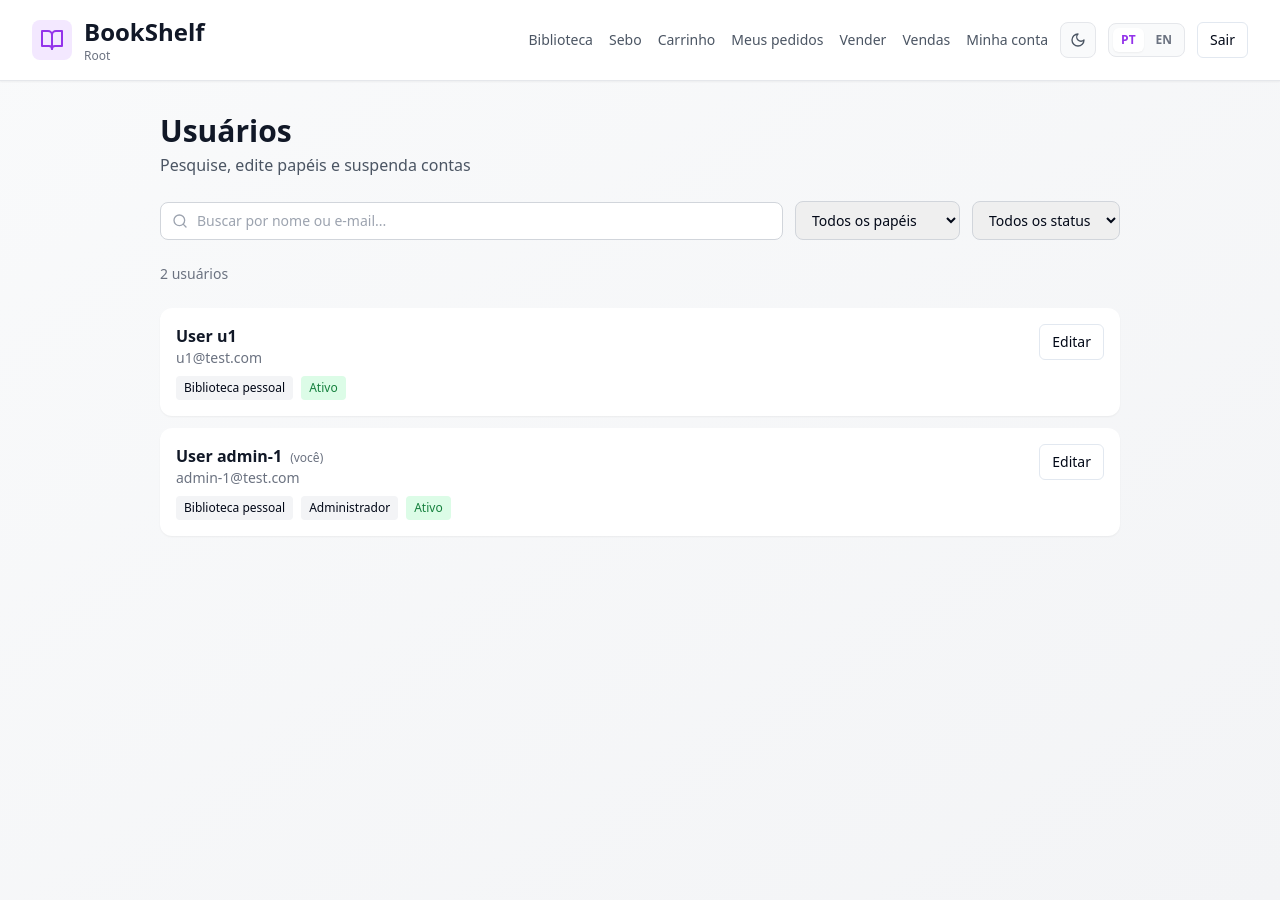
Scenario: AdminUsersPage editing › will not save without any role
Click the button "Editar" in the row of "User u1" at (1072, 342), box [1039,324,1104,360]
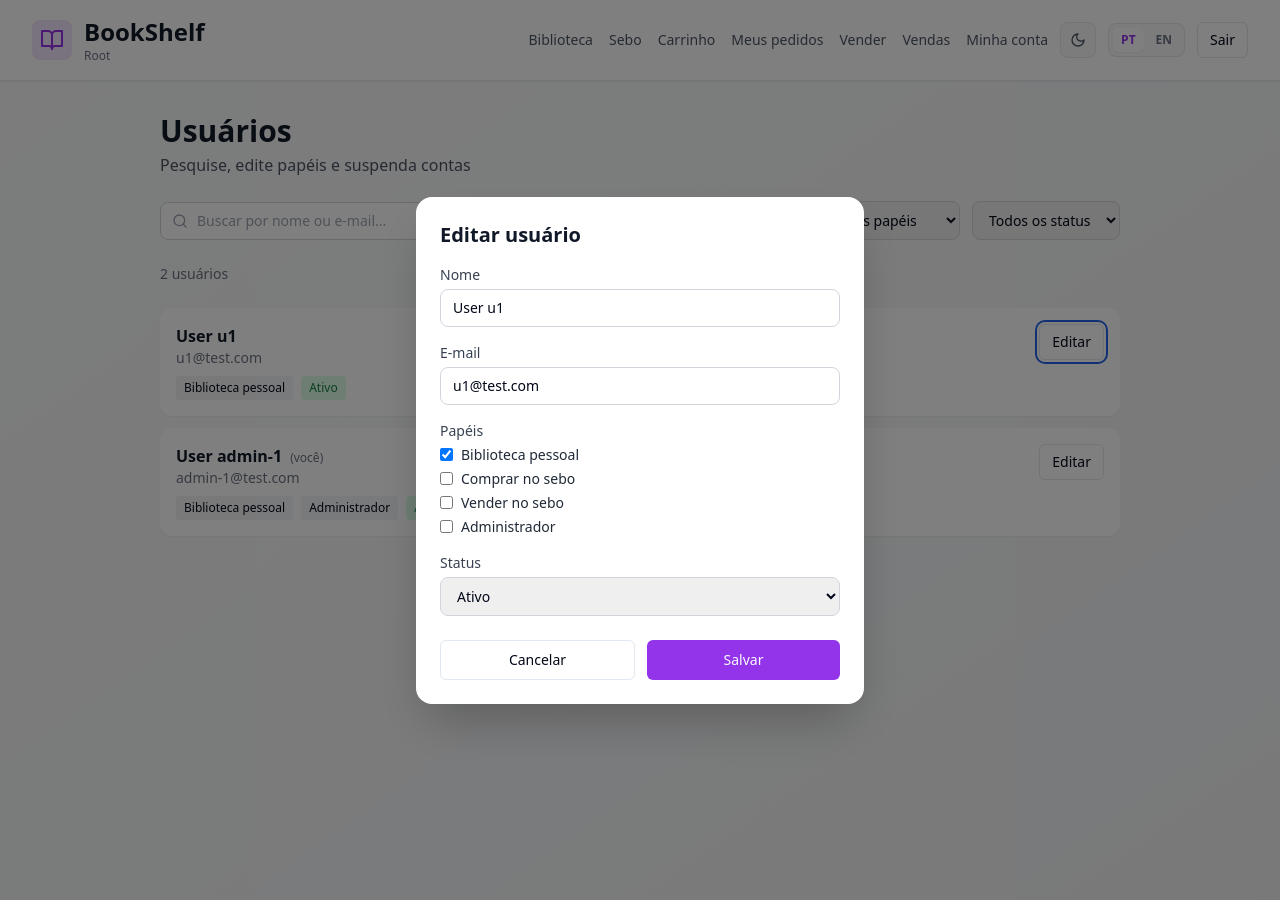
Click the checkbox with test id "edit-user-role-reader" at (446, 454), box [440,448,453,461]
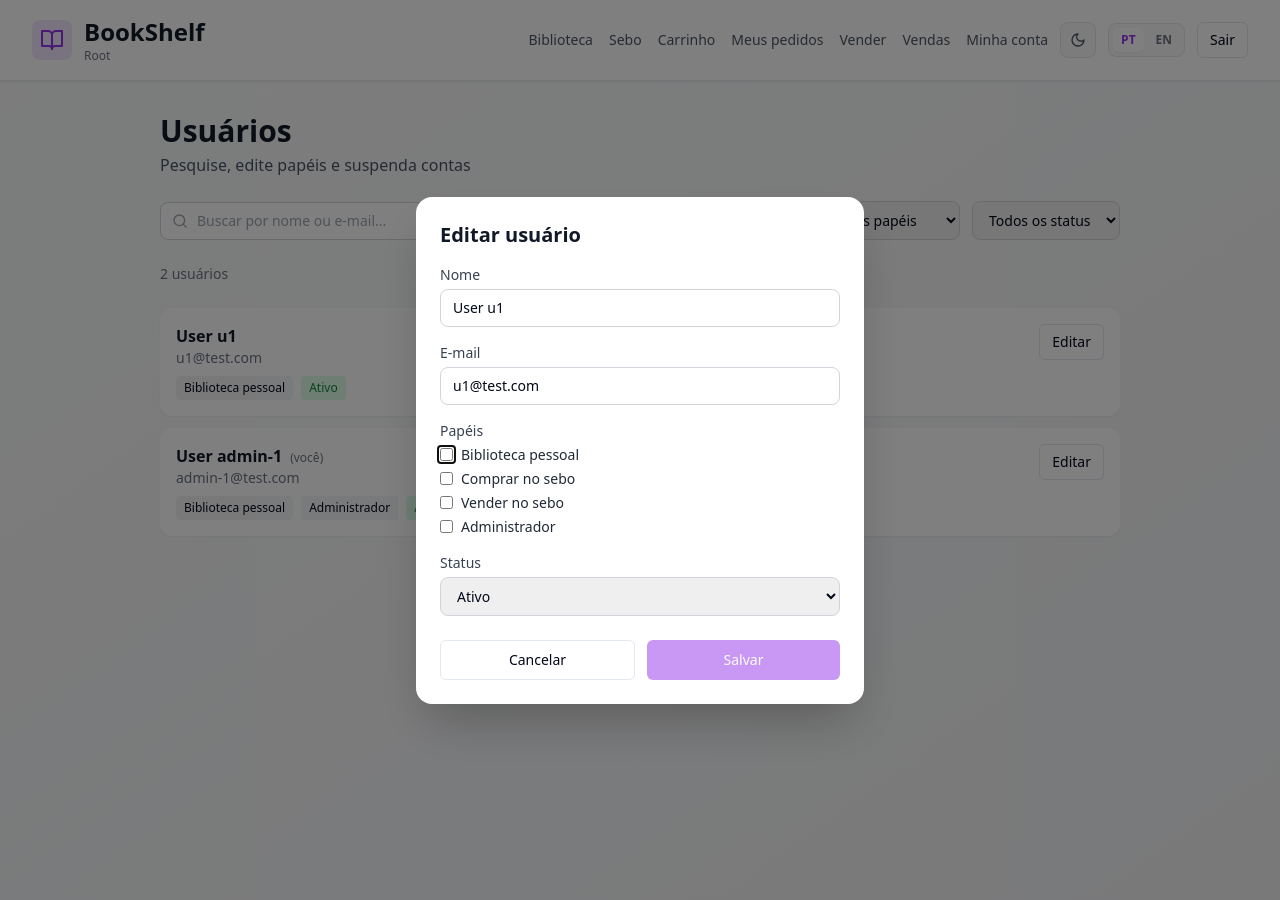
expect the button with test id "edit-user-save" is disabled: met, box [647,640,840,680]
